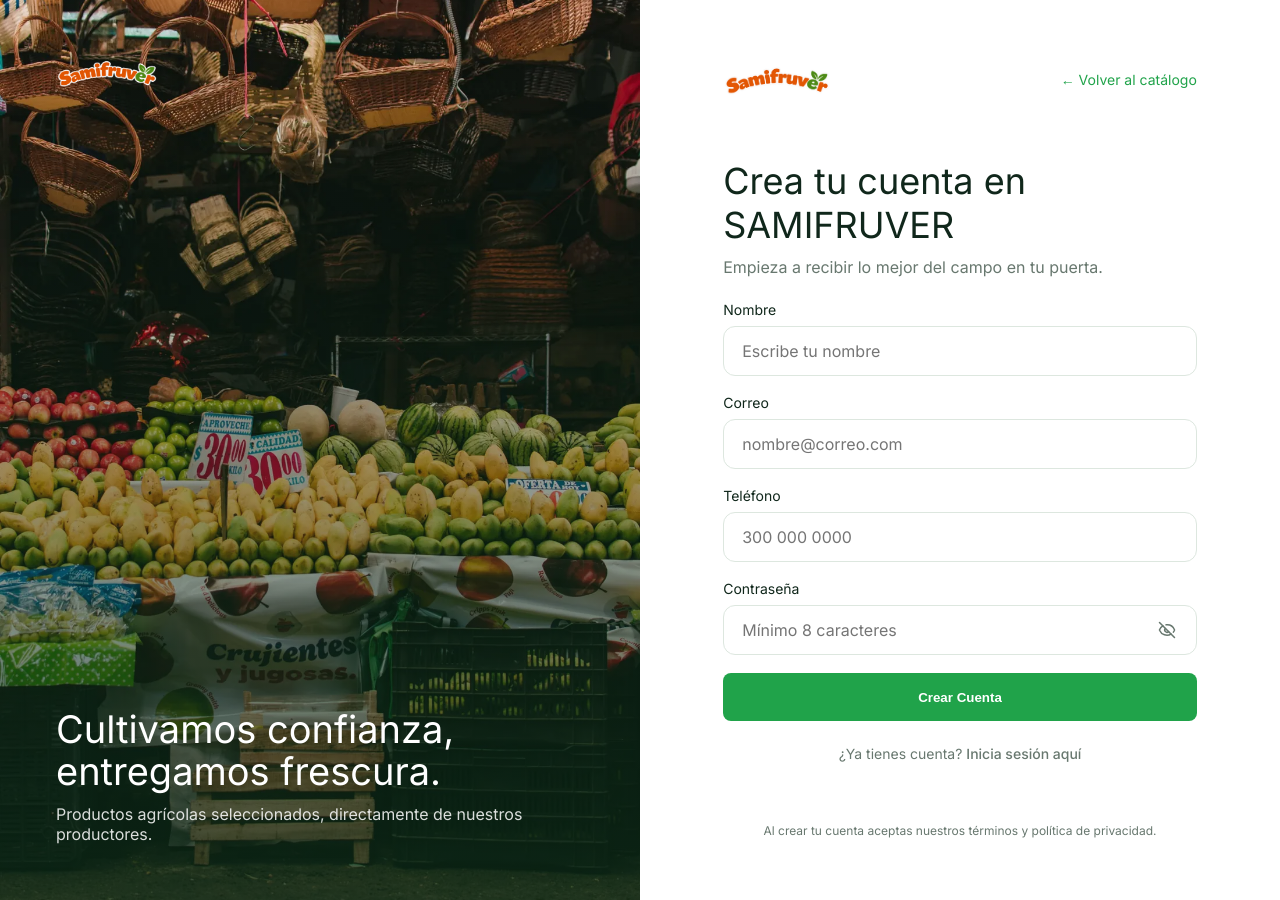
Test: Registro de cliente (E2-HU1) › E2-HU1 ESC4: correo inválido → mensaje y no envía
In the field labelled "Nombre": (960, 351) [740,340,1180,362], type "María López"
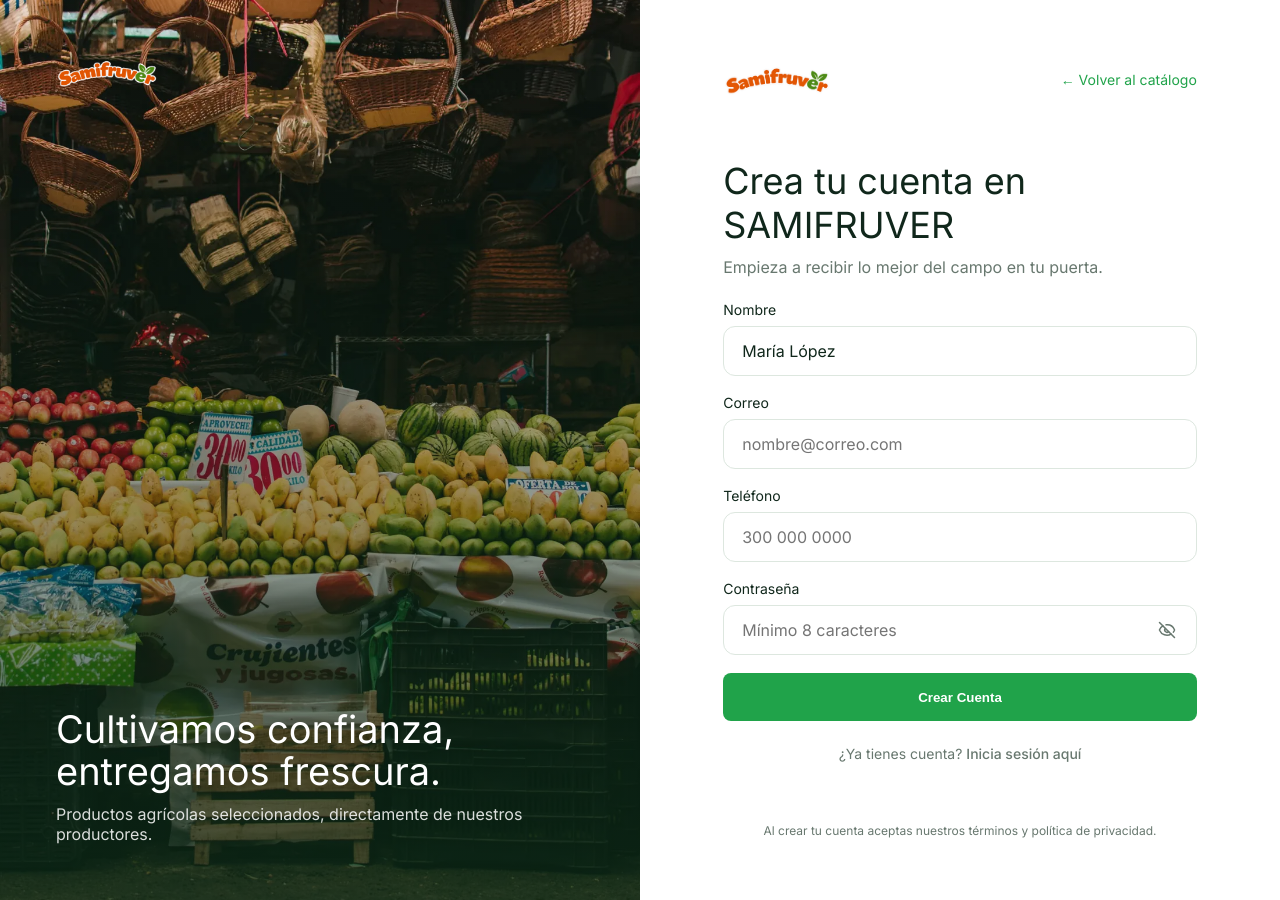
In the field labelled "Correo": (960, 444) [740,433,1180,455], type "maria.correo.com"
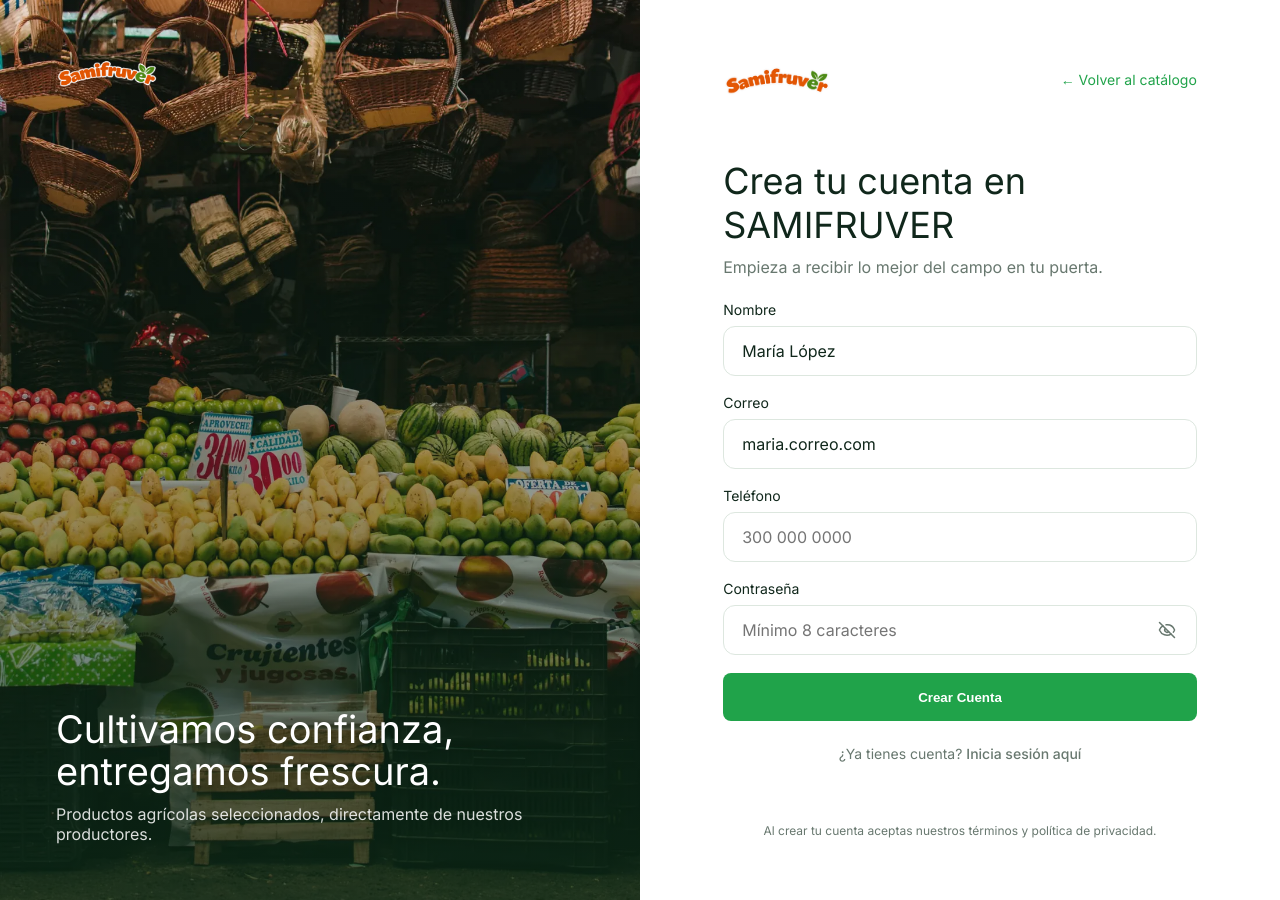
In the field labelled "Teléfono": (960, 537) [740,526,1180,548], type "3205551234"
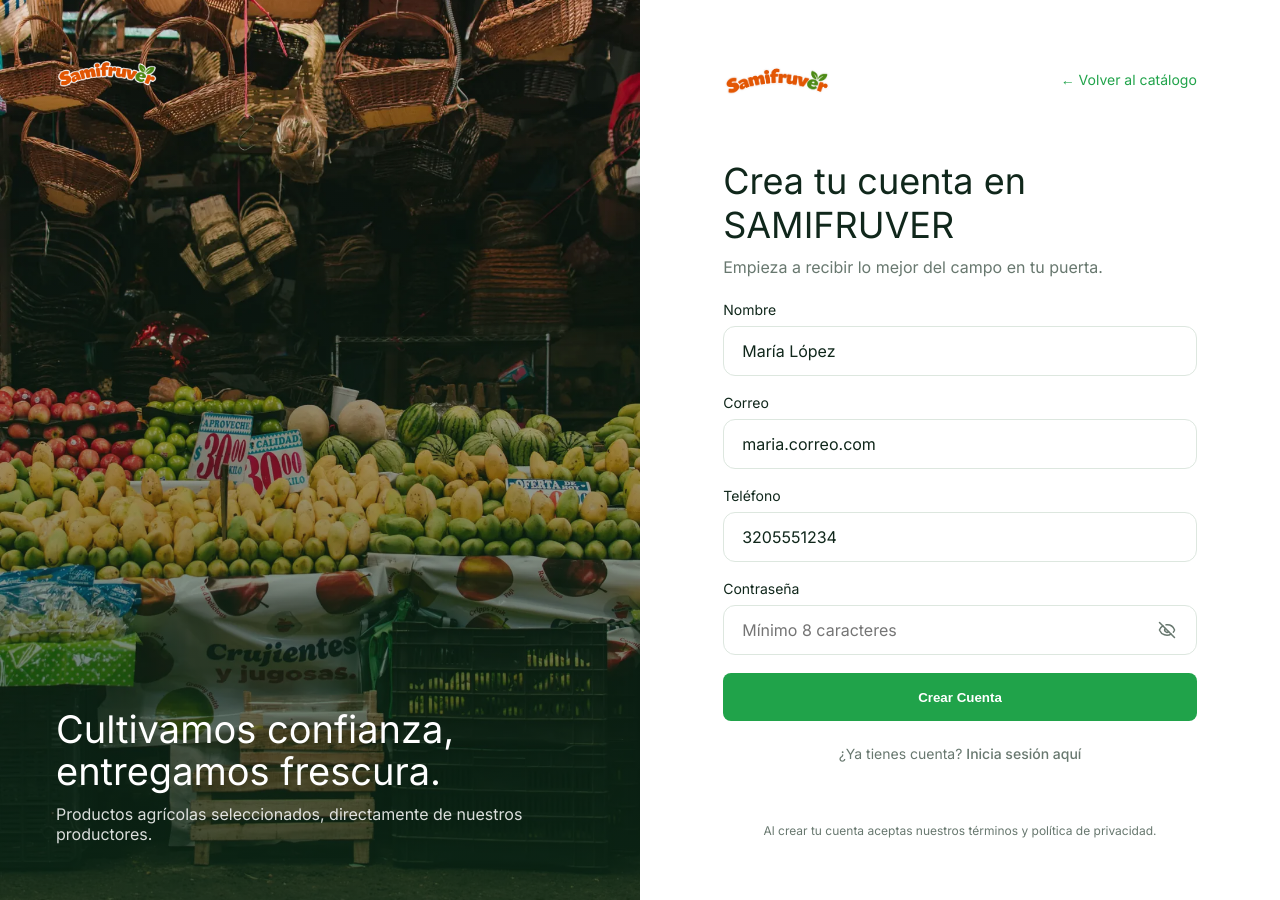
In the password field labelled "Contraseña": (943, 630) [740,619,1146,641], type "abcd1234"
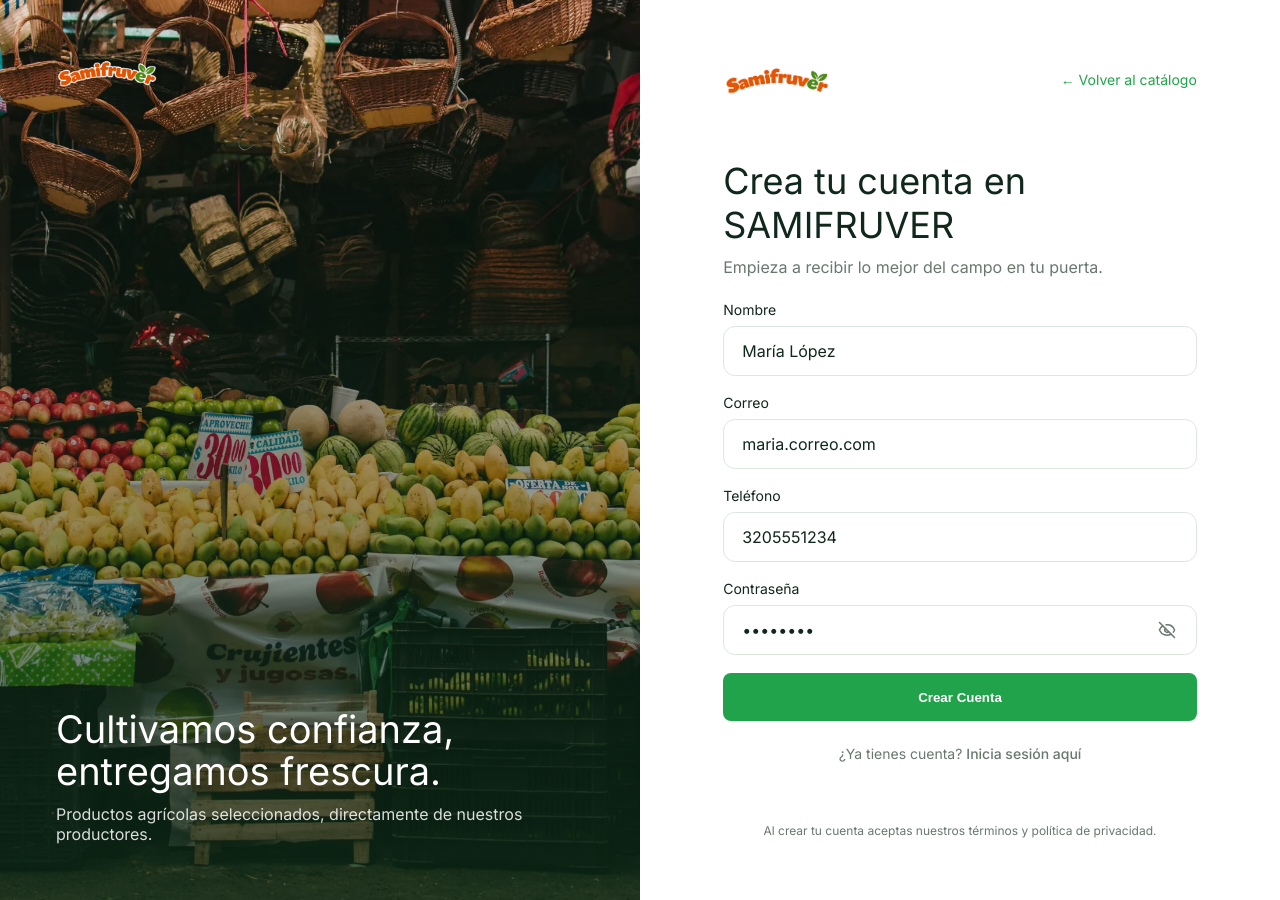
Click the button "Crear Cuenta": (960, 697) [723,673,1197,721]
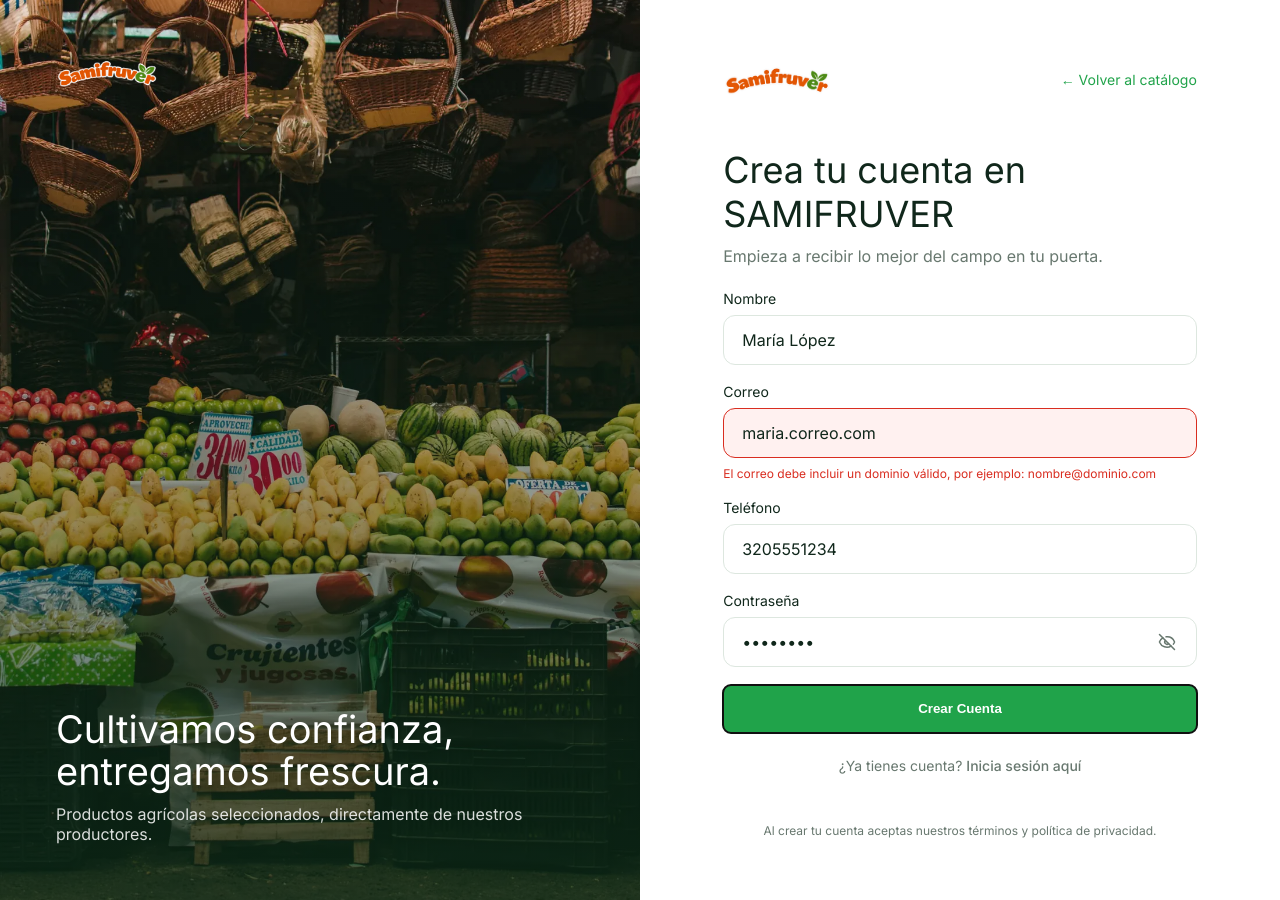
Expected: the text "El correo debe incluir un dominio válido, por ejemplo: nombre@dominio.com" is shown, [723,466,1197,480]
